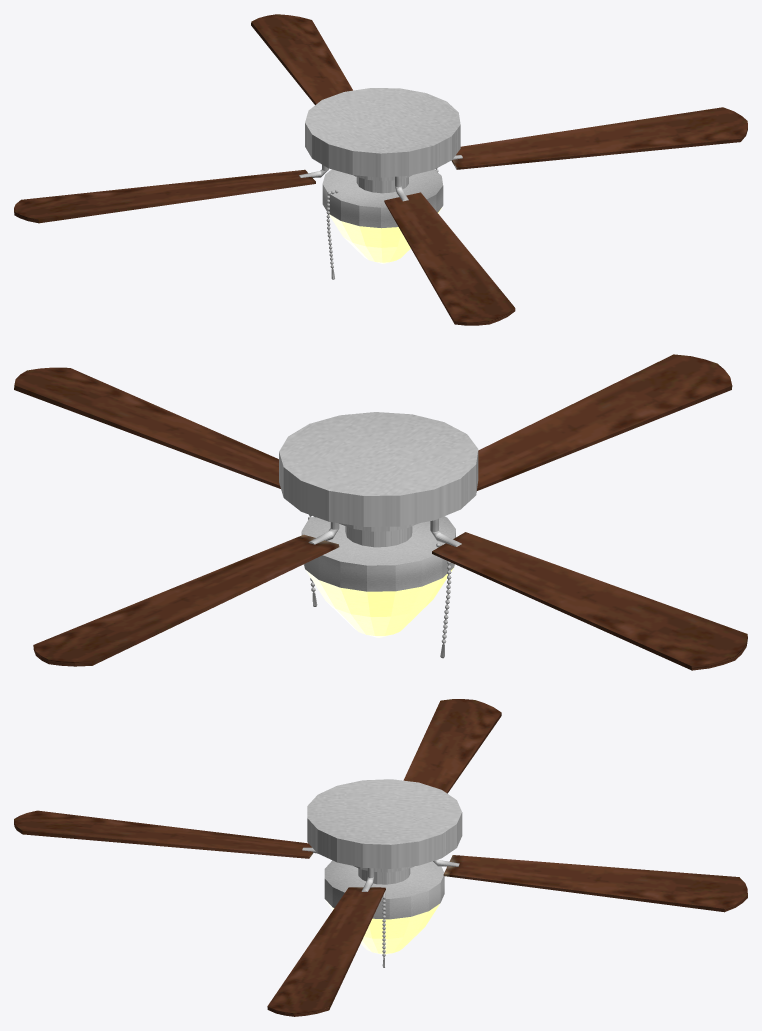
Rendered from ceilingfan.glb.
3 views of the same model, one above another, from view 1: azimuth 30°, elevation 25°; view 2: azimuth 150°, elevation 25°; view 3: azimuth 270°, elevation 25° (orthographic). The views are drawn at different scales.
Parts seen in each view (by area): view 1: Cylinder.002, Cylinder; view 2: Cylinder.002, Cylinder; view 3: Cylinder.002, Cylinder.
Part boxes in pixels (bbox=[...]): Cylinder.002: bbox=[14, 14, 747, 325]; Cylinder: bbox=[305, 88, 460, 279]; Cylinder.002: bbox=[14, 354, 747, 670]; Cylinder: bbox=[279, 412, 478, 658]; Cylinder.002: bbox=[14, 699, 747, 1016]; Cylinder: bbox=[307, 779, 462, 967].
Bounding box in the file's own units: 2.02 × 0.44 × 2.
3 materials, 3 textured.
